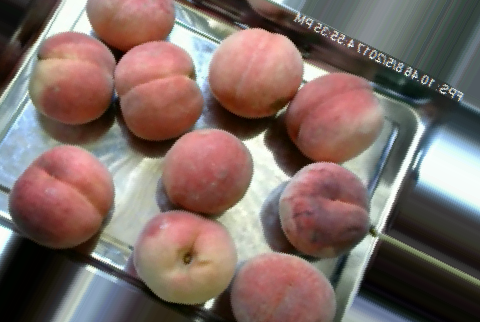Peach: (9, 144, 114, 248), (131, 209, 240, 305), (115, 41, 203, 140), (210, 27, 301, 122), (278, 164, 369, 258), (288, 70, 380, 162), (28, 32, 117, 125), (159, 128, 253, 215), (231, 252, 335, 320), (86, 0, 175, 51)
